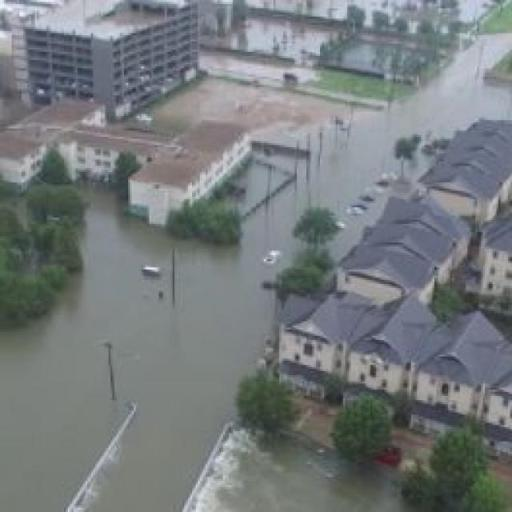flood: (0, 39, 512, 512), (201, 434, 403, 512), (218, 15, 344, 64), (200, 50, 318, 85), (154, 78, 255, 115), (248, 0, 410, 19), (460, 0, 494, 21)
house: (0, 102, 251, 204), (13, 5, 218, 118), (407, 307, 512, 430), (274, 294, 347, 396), (342, 243, 436, 299), (374, 196, 470, 246), (354, 316, 404, 410), (362, 220, 452, 272), (418, 164, 500, 216), (479, 220, 512, 295)
